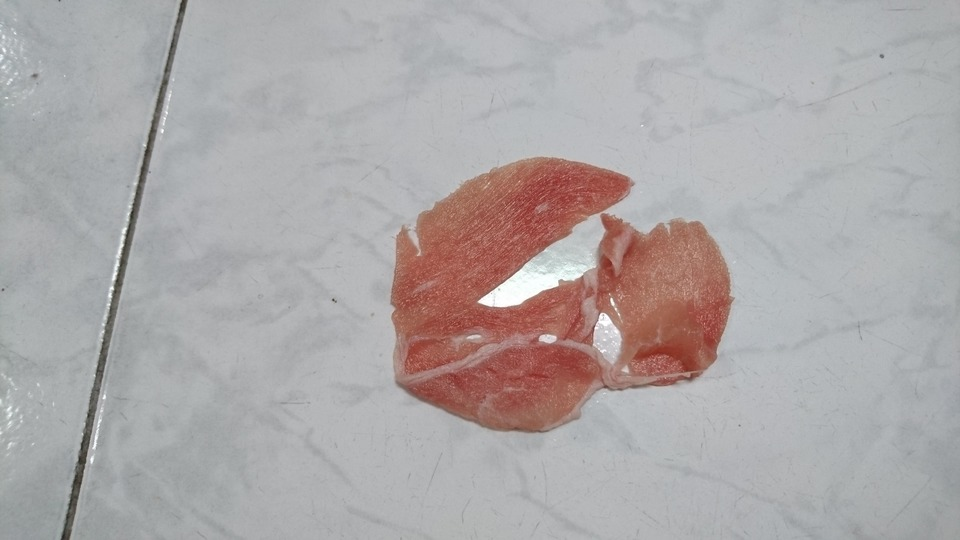restructured meat: (387, 154, 736, 435)
